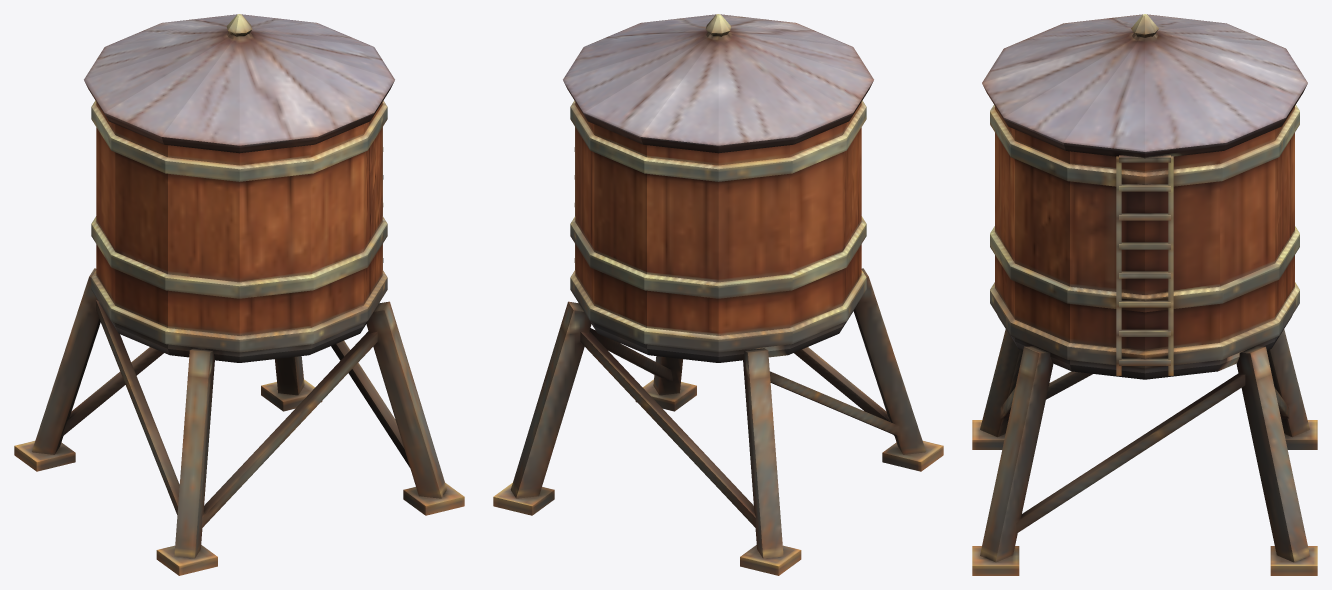
The model's file is RF_WaterTank.fbx.
3 views of the same model, side by side, from view 1: azimuth 30°, elevation 25°; view 2: azimuth 150°, elevation 25°; view 3: azimuth 270°, elevation 25° (orthographic). The views are drawn at different scales.
Visible parts, largest first — view 1: RF_WaterTank; view 2: RF_WaterTank; view 3: RF_WaterTank.
Part boxes in pixels (bbox=[...]): RF_WaterTank: bbox=[14, 14, 464, 575]; RF_WaterTank: bbox=[493, 14, 943, 575]; RF_WaterTank: bbox=[972, 14, 1317, 575].
Bounding box in the file's own units: 3.45 × 3.45 × 5.38.
Materials: 1 (1 with a texture image).
